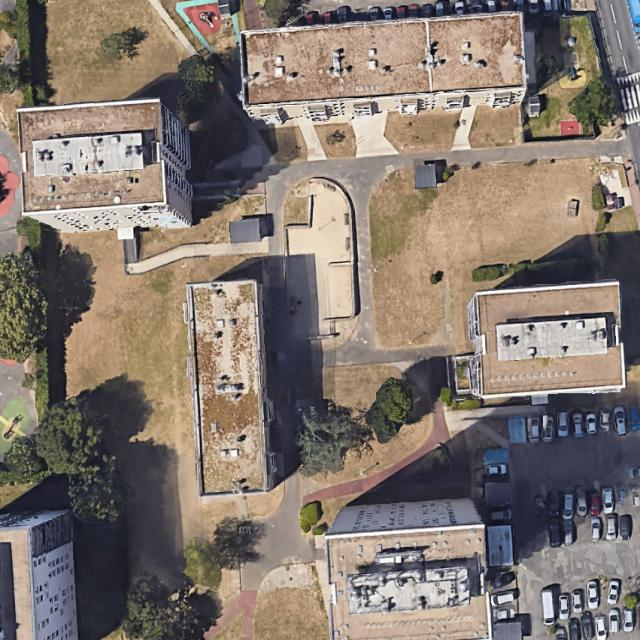immeuble: (234, 5, 530, 129), (17, 97, 194, 234), (325, 500, 496, 639), (178, 276, 282, 499), (464, 281, 626, 400)
